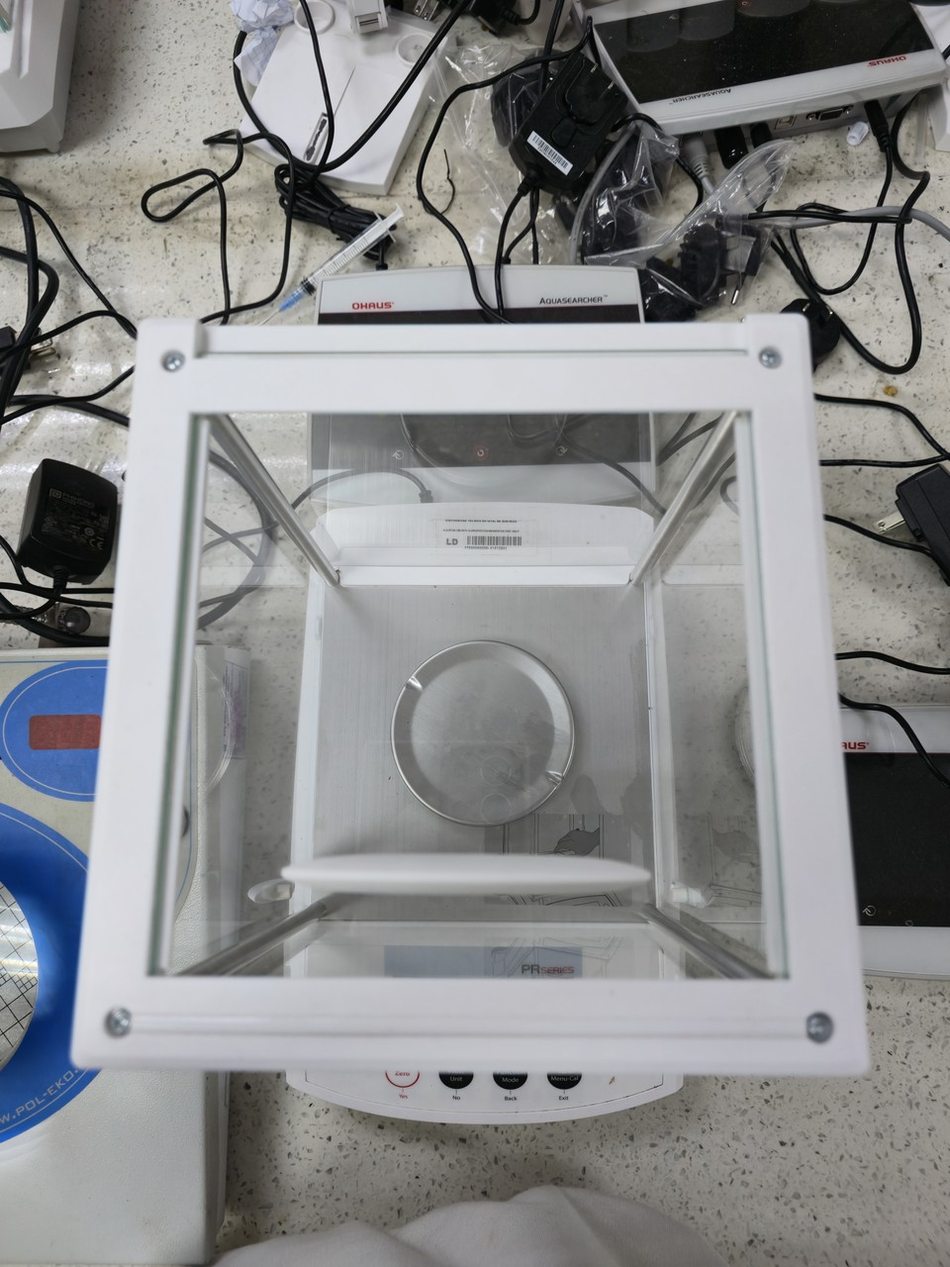ohaus_pr224: (97, 238, 865, 1172)
